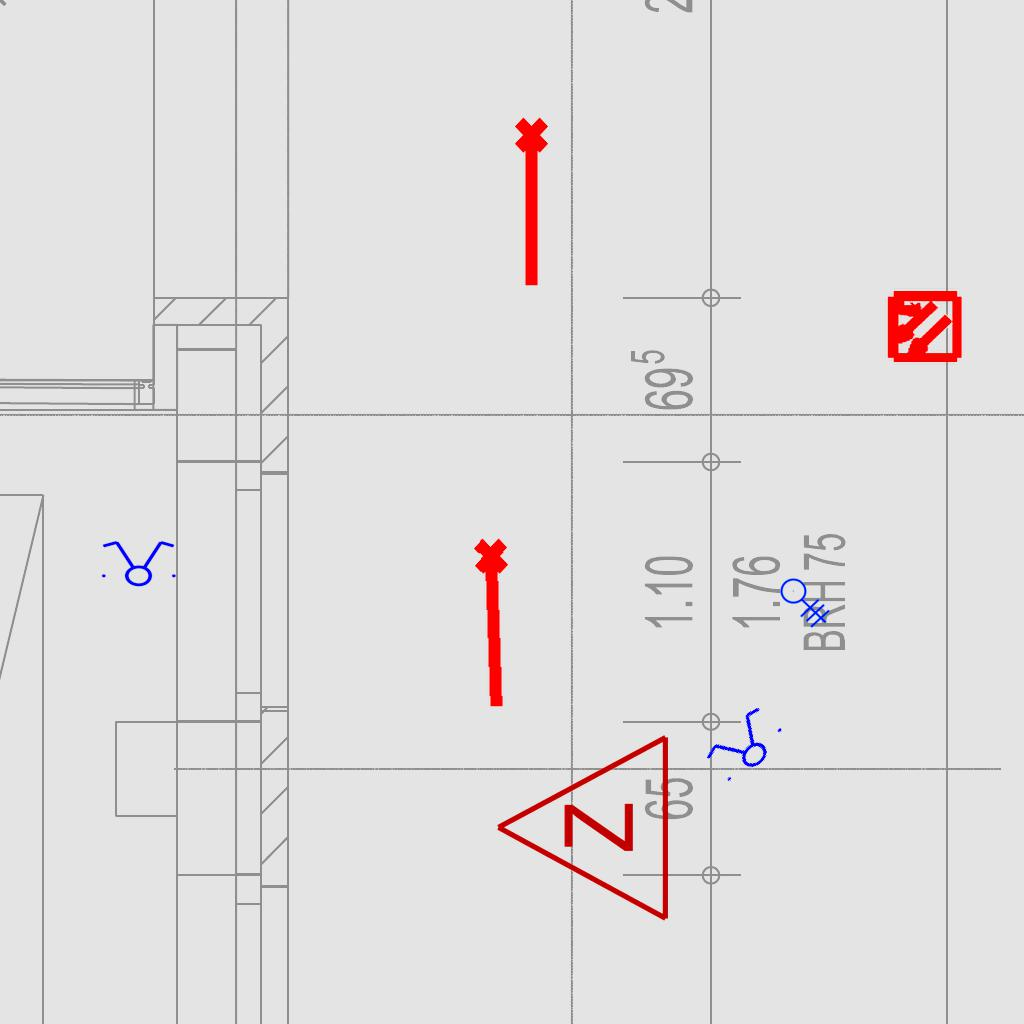ASR_Ansaugoeffnung: (469, 535, 523, 713), (511, 115, 557, 291)
Elektroanschluss_allgemein_400V_Geraeteanschlussdose_400V: (780, 570, 836, 628)
OT_Multisensormelder_(Kombination_RMO_WMD): (866, 270, 979, 383)
Serienschalter: (698, 699, 792, 793), (96, 539, 180, 587)
Zimmersignalleuchte: (483, 732, 683, 928)
